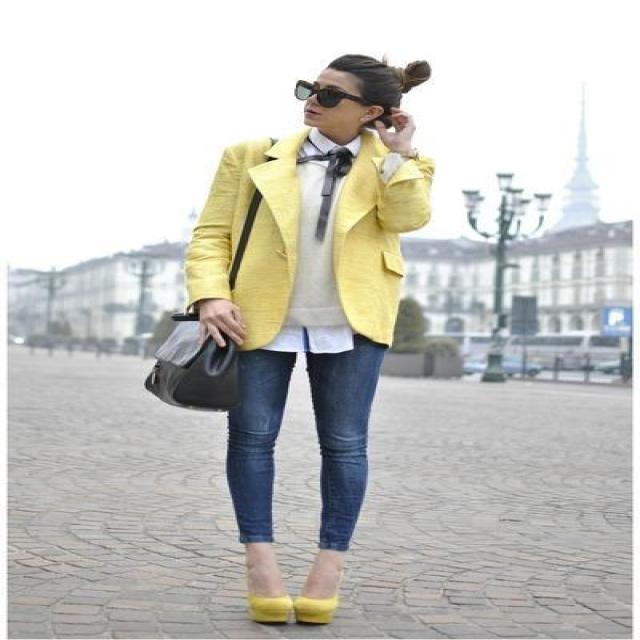bag: (144, 192, 261, 421)
jacket: (184, 132, 434, 345)
pants: (226, 330, 390, 549)
shirt: (264, 127, 358, 370)
shoe: (245, 589, 338, 624)
sunglass: (296, 80, 349, 107)
